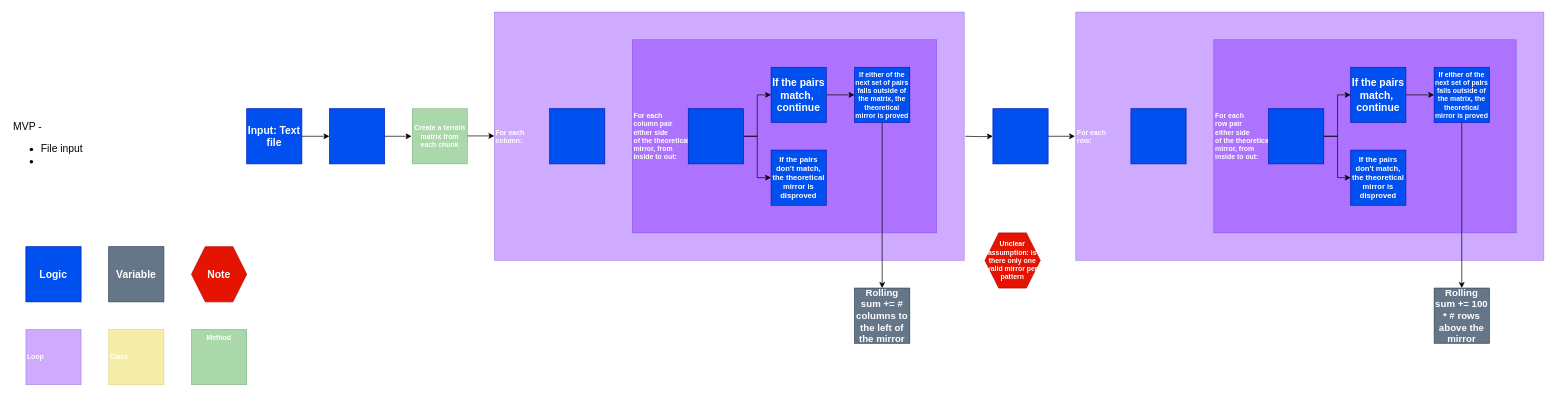
This 1556x397 diagram has some shape labels left out. Each missing label, with the centre of its shape:
Compare the paired column: the point at 715,136
Compare the paired rows: the point at 1296,136
If no vertical mirror has been found: the point at 1020,136
Read file: the point at 357,136
Test a theoretical mirror to the right of the column: the point at 577,136
Test a theoretical mirror underneath the row: the point at 1158,136
